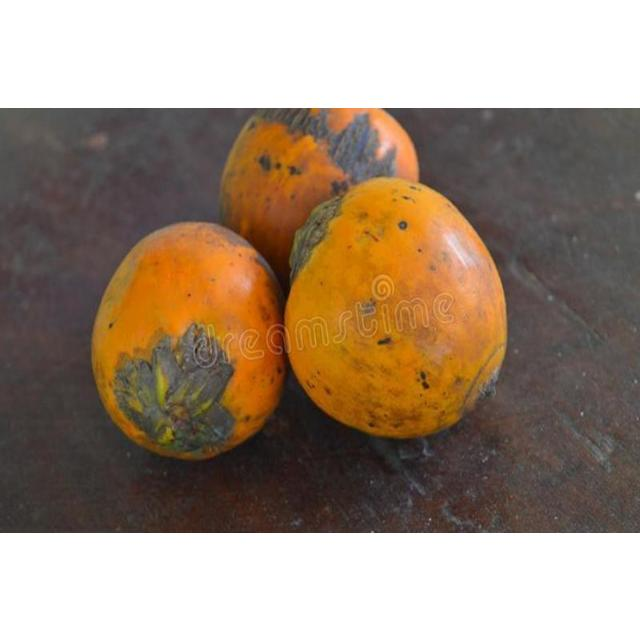good: (283, 176, 508, 441), (90, 222, 289, 463), (219, 107, 419, 287)
